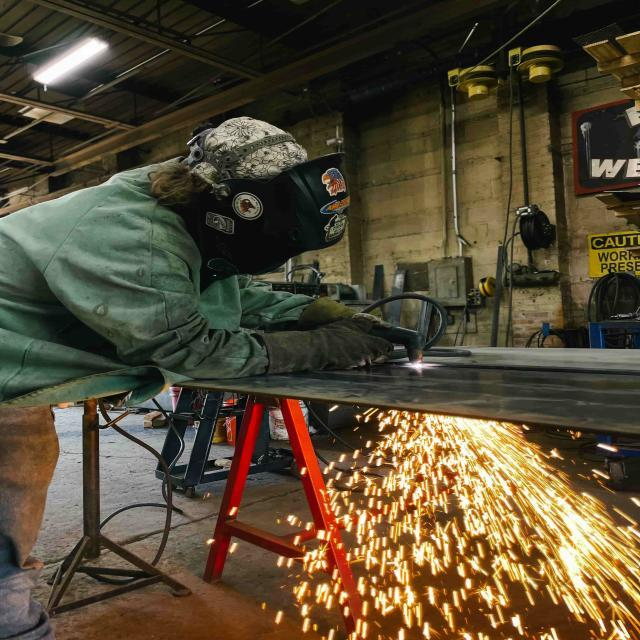with_helmet: (173, 153, 349, 281)
